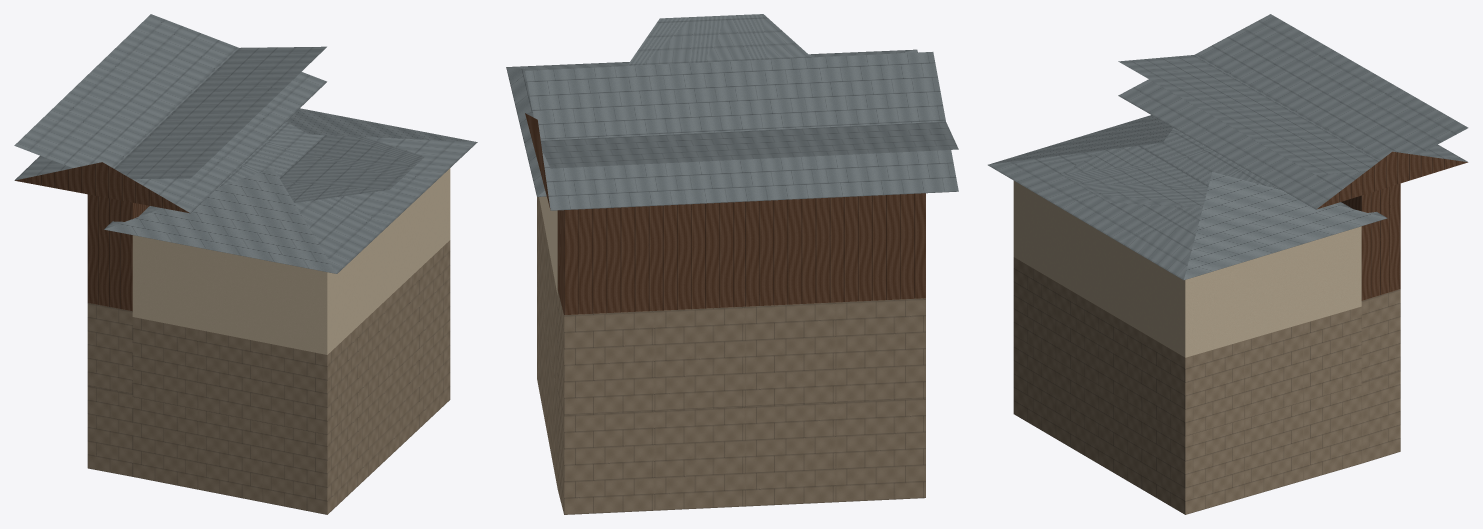
The model's file is bld_c9_16_448.gltf.
3 views of the same model, side by side, from view 1: azimuth 30°, elevation 25°; view 2: azimuth 150°, elevation 25°; view 3: azimuth 270°, elevation 25° (orthographic). The views are drawn at different scales.
Visible parts, largest first — view 1: bld_c9_16_448; view 2: bld_c9_16_448; view 3: bld_c9_16_448.
Part boxes in pixels (bbox=[...]): bld_c9_16_448: bbox=[14, 14, 477, 514]; bld_c9_16_448: bbox=[506, 14, 958, 514]; bld_c9_16_448: bbox=[988, 14, 1468, 514].
Size of the model in its own units: 12.56 by 9.1 by 12.71.
Materials: 5 (5 with a texture image).
